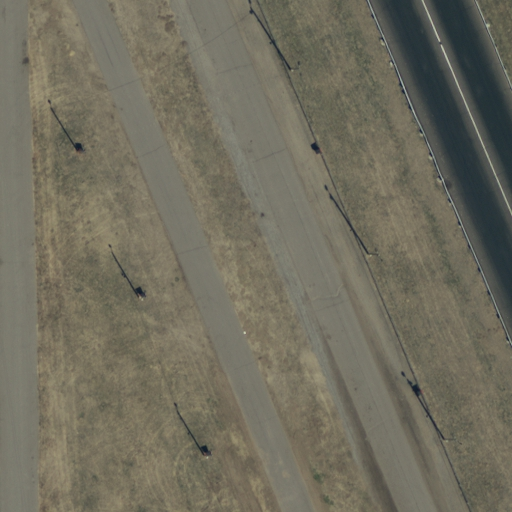DT: (60, 137, 93, 163), (274, 58, 307, 84), (123, 283, 156, 309), (355, 242, 388, 268), (188, 441, 221, 467), (431, 429, 464, 455)
